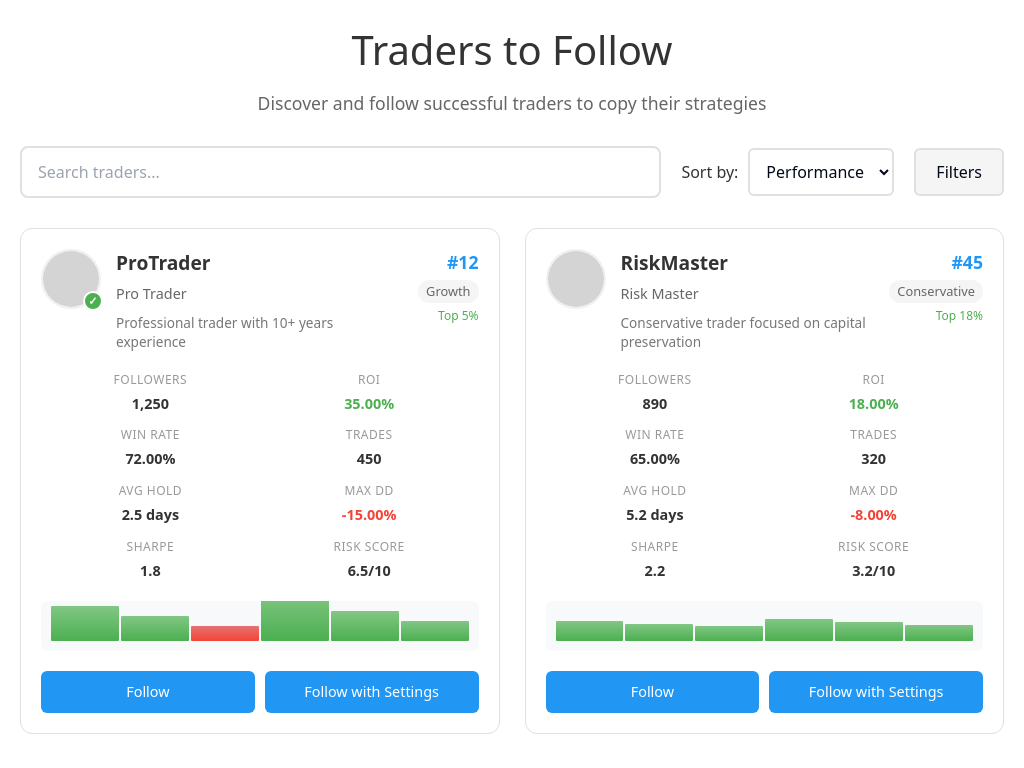
TradersToFollow › Trader Details Modal › should close modal when close button is clicked
The image size is (1024, 768).
Expected: the heading "ProTrader" is shown, [116,249,210,276]
Click the button with test id "trader-card-trader-1".
click(39, 249)  # box [20,228,500,734]
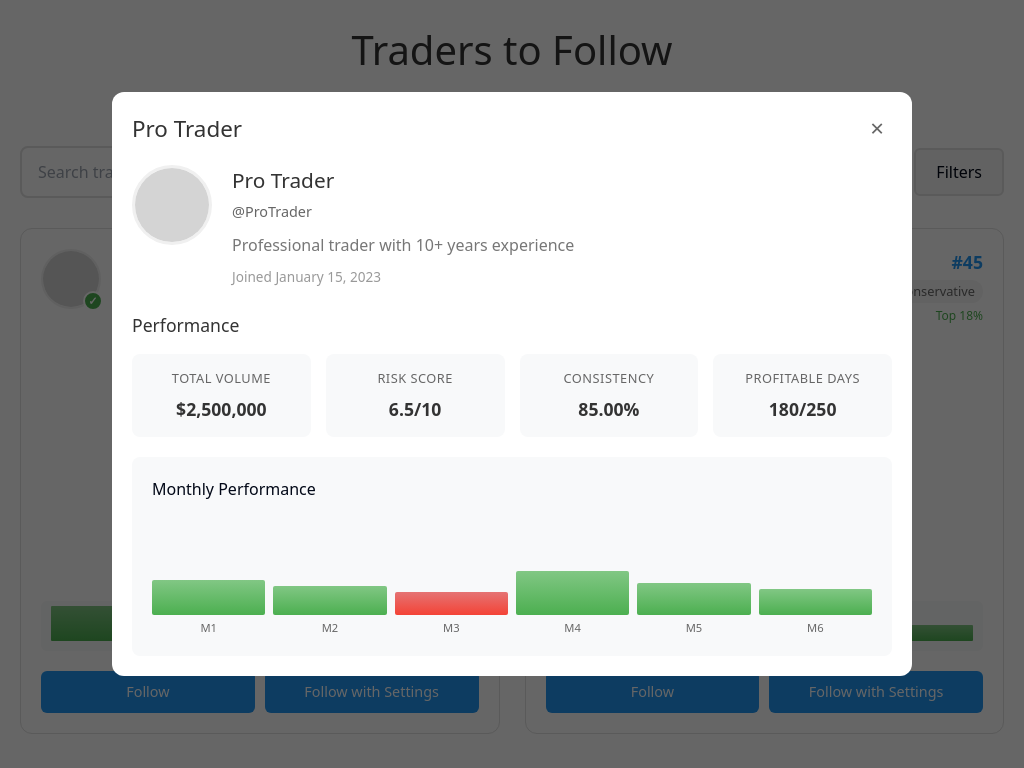
Expected: the element with test id "trader-details-modal" is shown, [112,92,912,676]
Click the button with test id "close-modal-button".
click(877, 128)  # box [862,113,892,143]
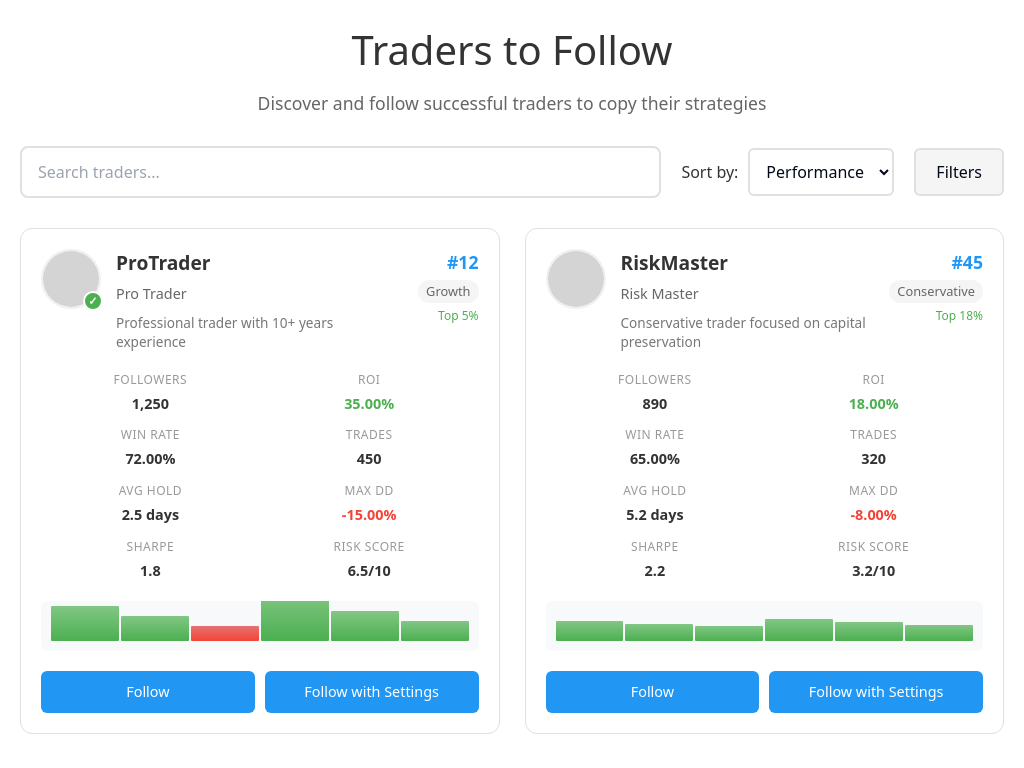
Expected: the element with test id "trader-details-modal" is gone
